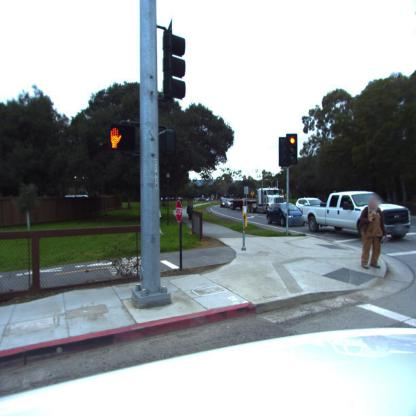car: (266, 201, 304, 226), (296, 197, 322, 209)
person: (359, 198, 386, 270)
stop sign: (176, 200, 183, 222)
traffic light: (162, 25, 186, 100), (110, 125, 136, 152), (285, 133, 299, 167), (280, 136, 292, 167)
truck: (301, 190, 411, 235), (256, 188, 285, 214)
